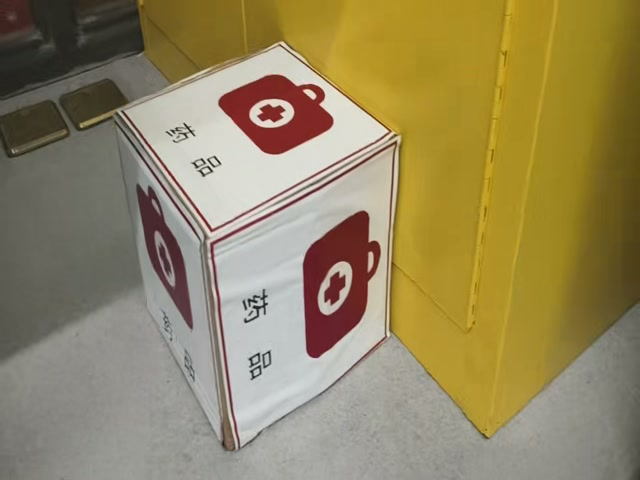Cube_medicine: (115, 43, 399, 252)
